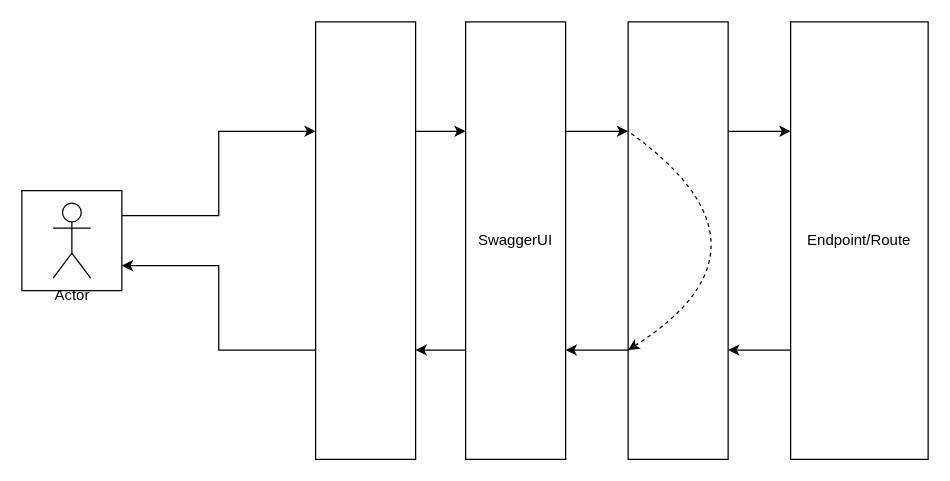
The diagram is 950 pixels wide and 481 high, and some of its shapes have lost their labels. Here are the shapes that lost their labels. From the top down, the centre of each, then its label:
(x=365, y=240): Swagger
(x=677, y=240): HttpsRed
